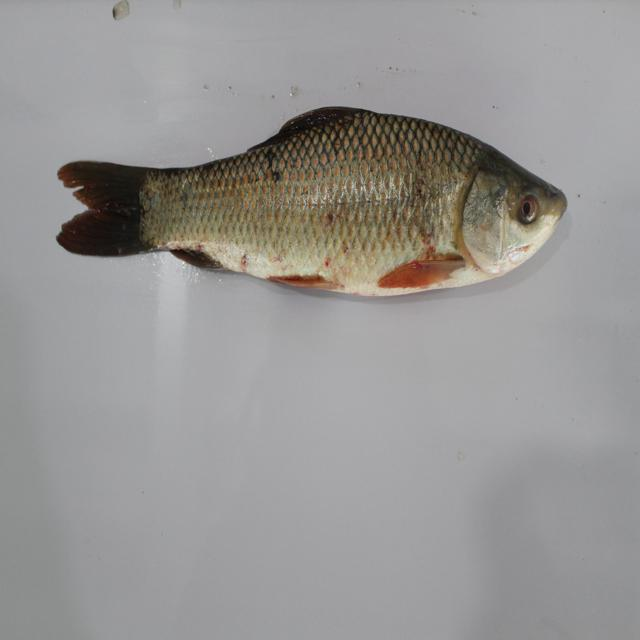Rohu: (64, 100, 573, 319)
